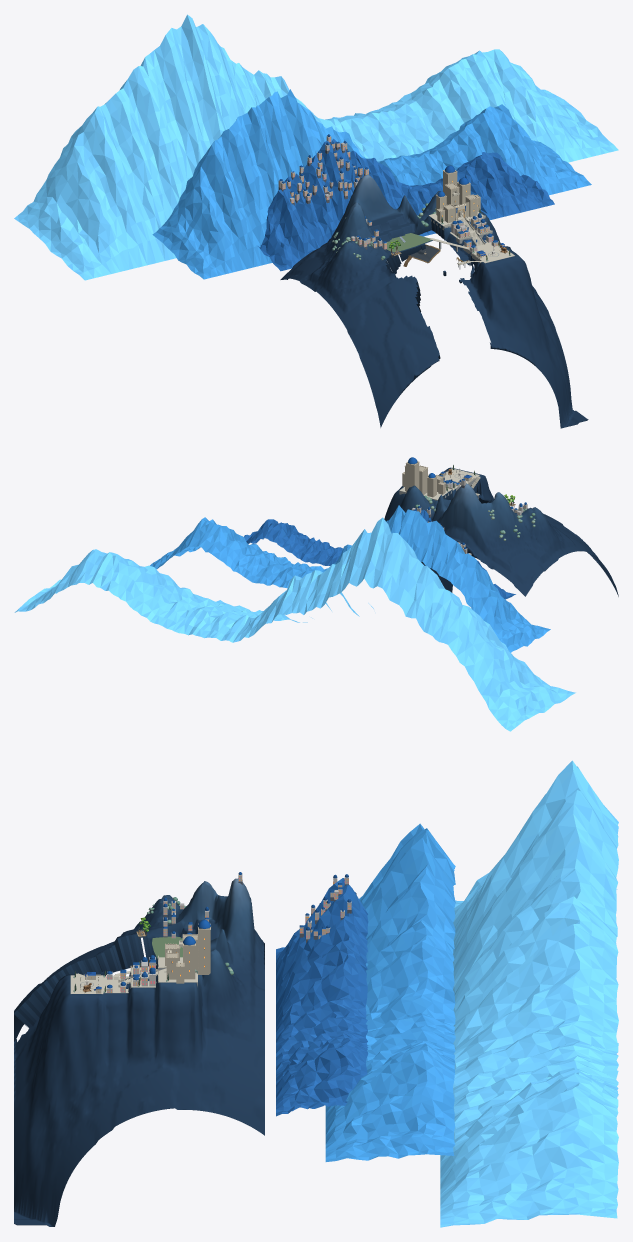
File: citadel-west-city-before.glb
The picture shows the model from 3 angles, top to bottom: view 1: azimuth 30°, elevation 25°; view 2: azimuth 150°, elevation 25°; view 3: azimuth 270°, elevation 25°; orthographic projection. The views are drawn at different scales.
Visible parts, largest first — view 1: citadel-backdrop-ridge-far, citadel-oskar-grid-mountain-surface, citadel-backdrop-ridge-mid, citadel-backdrop-ridge-near, target-castle-exterior, citadel-target-hillside-houses-claude-exterior-0, citadel-coastal-cliff-seal; view 2: citadel-backdrop-ridge-far, citadel-backdrop-ridge-mid, citadel-oskar-grid-mountain-surface, citadel-backdrop-ridge-near, target-castle-exterior; view 3: citadel-backdrop-ridge-far, citadel-oskar-grid-mountain-surface, citadel-backdrop-ridge-mid, citadel-backdrop-ridge-near, citadel-coastal-cliff-seal, target-castle-exterior, citadel-target-hillside-houses-claude-exterior-0.
Part boxes in pixels (x1,y1,x2,y2): citadel-backdrop-ridge-far: [14, 14, 618, 280]; citadel-oskar-grid-mountain-surface: [280, 174, 588, 428]; citadel-backdrop-ridge-mid: [152, 89, 591, 279]; citadel-backdrop-ridge-near: [258, 138, 554, 271]; target-castle-exterior: [436, 170, 479, 222]; citadel-target-hillside-houses-claude-exterior-0: [278, 144, 386, 249]; citadel-coastal-cliff-seal: [385, 217, 477, 359]; citadel-backdrop-ridge-far: [14, 517, 575, 731]; citadel-backdrop-ridge-mid: [150, 505, 550, 652]; citadel-oskar-grid-mountain-surface: [384, 467, 618, 596]; citadel-backdrop-ridge-near: [244, 509, 515, 599]; target-castle-exterior: [402, 462, 445, 497]; citadel-backdrop-ridge-far: [440, 760, 618, 1227]; citadel-oskar-grid-mountain-surface: [14, 878, 264, 1226]; citadel-backdrop-ridge-mid: [325, 823, 455, 1161]; citadel-backdrop-ridge-near: [276, 878, 368, 1116]; citadel-coastal-cliff-seal: [14, 933, 157, 1027]; target-castle-exterior: [165, 926, 211, 983]; citadel-target-hillside-houses-claude-exterior-0: [163, 875, 351, 939].
Bounding box in the file's own units: 564 × 290 × 443.
Materials: 120 (1 with a texture image).
